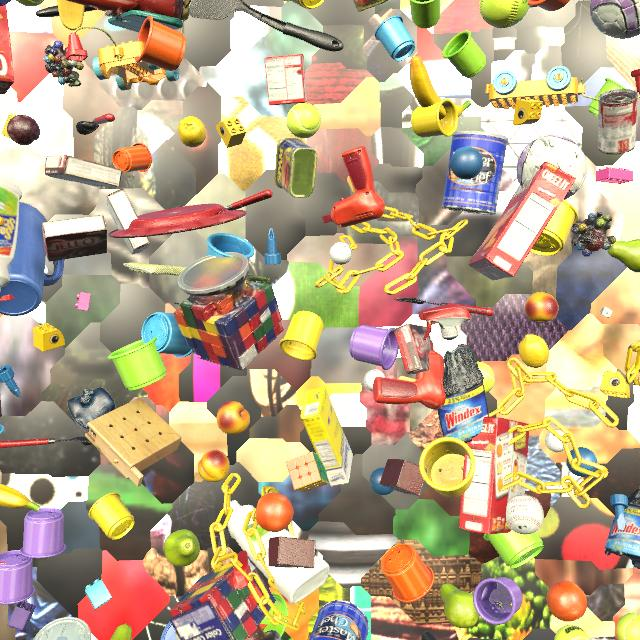ycb_002_master_chef_can: (441, 130, 508, 215), (309, 600, 369, 640), (34, 617, 92, 640)
ycb_003_cracker_box: (468, 161, 576, 281), (459, 416, 529, 534), (0, 4, 14, 95)
ycb_004_sugar_box: (301, 387, 353, 486)
ycb_005_tomato_soup_can: (598, 89, 638, 155)
ycb_008_pudding_box: (42, 215, 107, 262), (106, 188, 150, 254), (45, 155, 122, 187), (393, 324, 431, 374)
ycb_009_gelatin_box: (264, 54, 307, 105), (0, 562, 10, 564)
ycb_010_potted_meat_can: (274, 137, 318, 198), (353, 0, 388, 12)
ycb_011_banana: (410, 56, 471, 120), (0, 484, 40, 512), (0, 217, 5, 227)
ycb_014_lemon: (519, 334, 549, 368), (178, 116, 206, 148)
ycb_015_peach: (217, 401, 250, 435), (525, 292, 559, 323), (198, 450, 230, 482)
ycb_016_pear: (440, 583, 479, 628), (164, 529, 200, 567), (608, 239, 640, 273), (110, 623, 132, 640)
ycb_017_orange: (547, 580, 587, 622), (255, 493, 294, 532)
ycb_018_plum: (7, 114, 40, 145)
